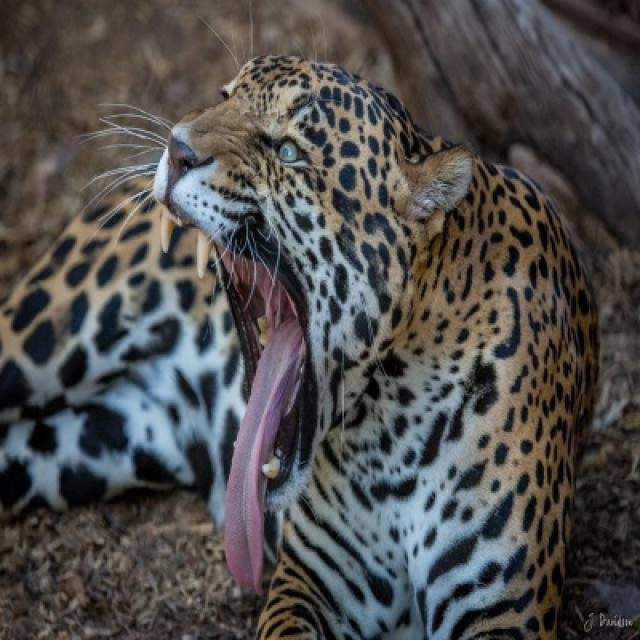Jaguar: (0, 54, 602, 638)
